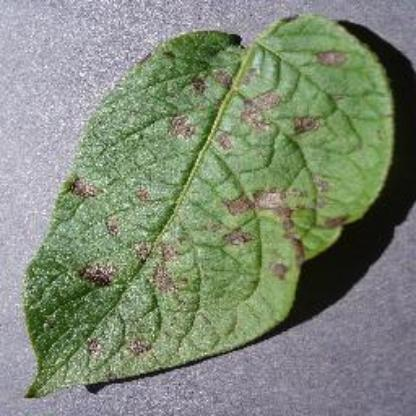Early-Blight: (26, 12, 402, 398)
